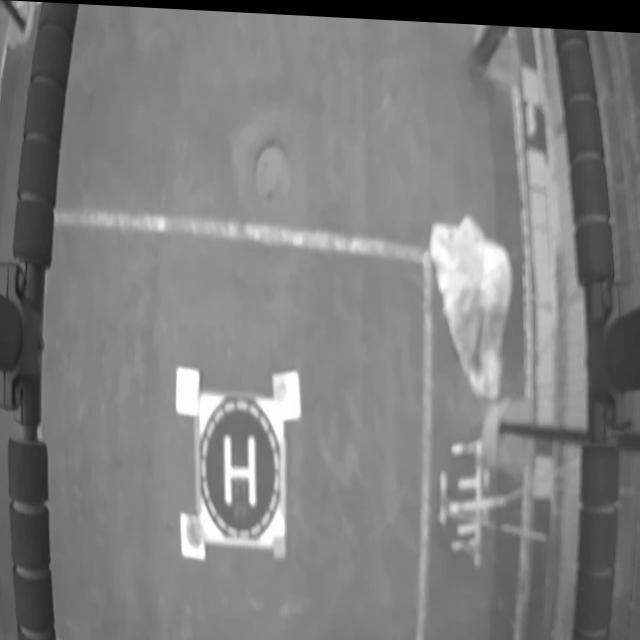Helipad: (223, 431, 257, 502)
